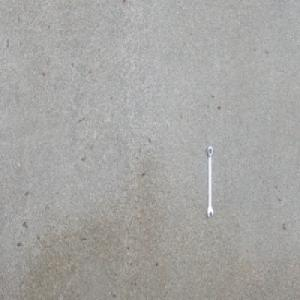Wrench: (206, 143, 214, 219)
